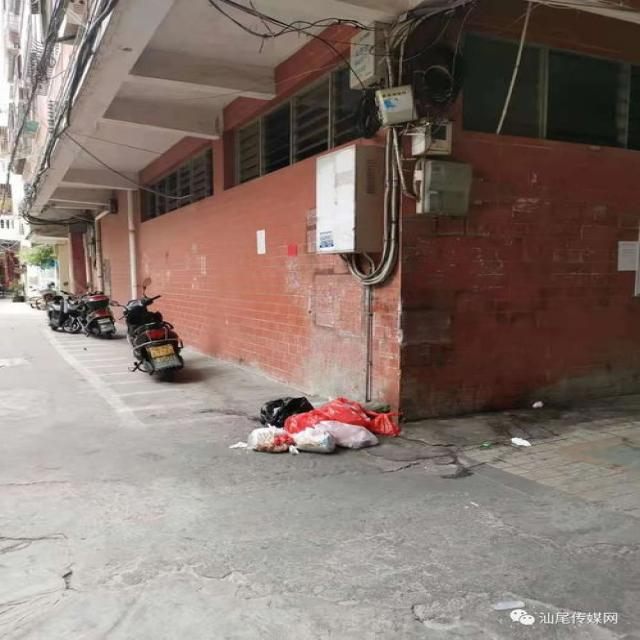garbage: (230, 395, 400, 453)
